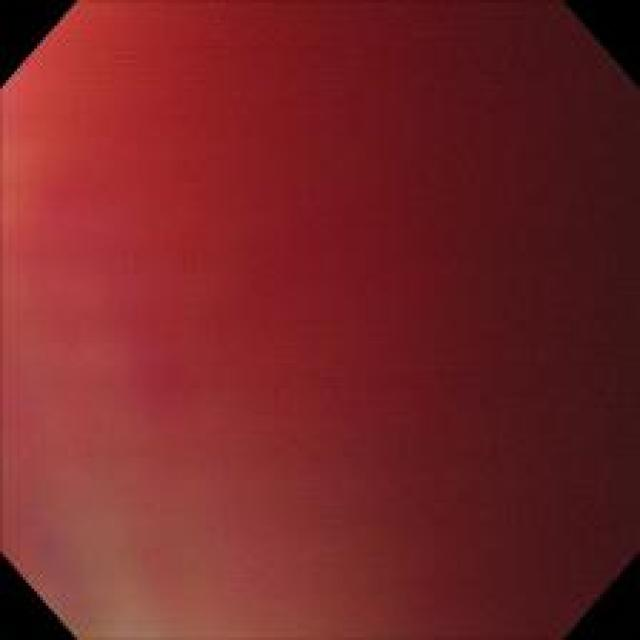blur: (8, 9, 621, 615)
color misalignment: (5, 6, 630, 628)
